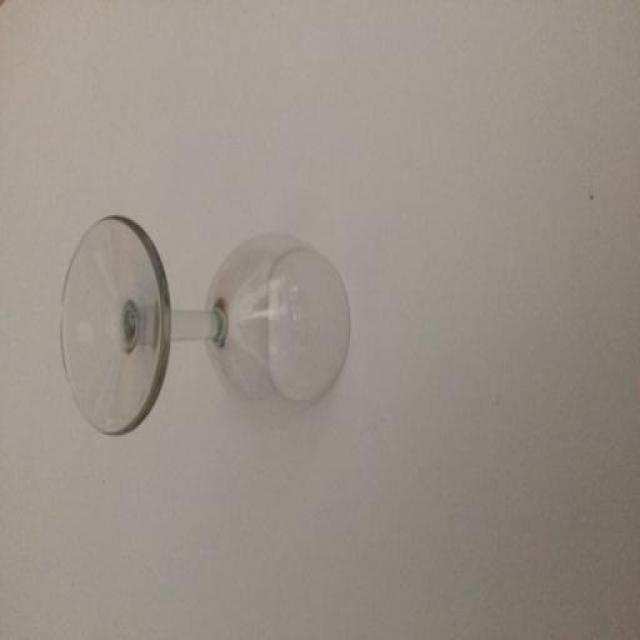Waste: (61, 215, 351, 436)
